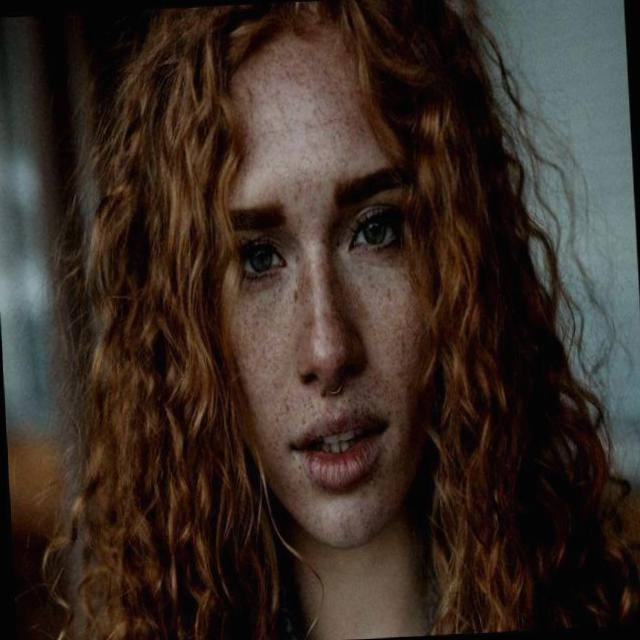freckle: (230, 264, 422, 427), (235, 54, 371, 177), (370, 421, 424, 506), (291, 172, 334, 264), (265, 425, 300, 497)
